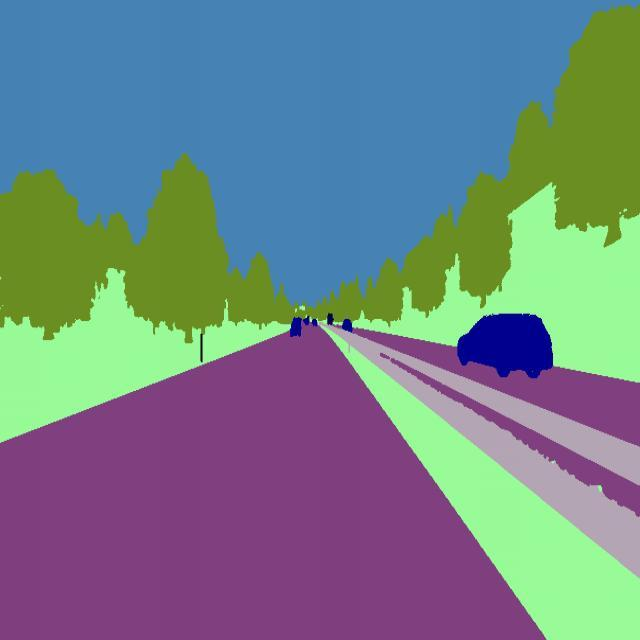safe: (455, 306, 556, 381), (287, 313, 304, 342), (340, 316, 356, 336), (310, 316, 320, 328)
